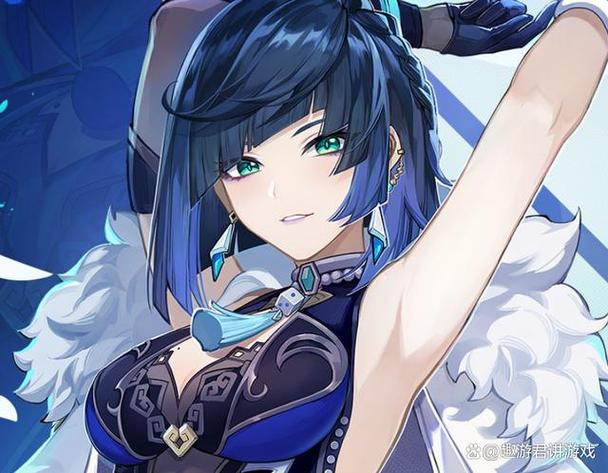夜兰: (72, 2, 608, 473)
